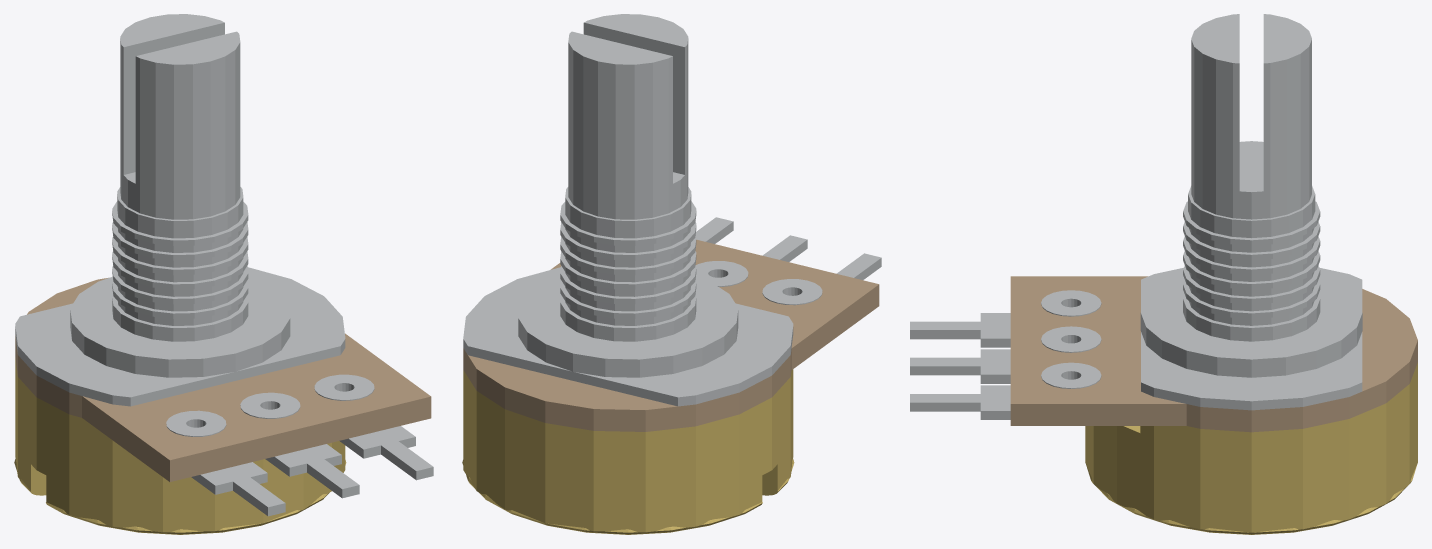
Rendered from potentiometer.glb.
The picture shows the model from 3 angles, left to right: view 1: azimuth 30°, elevation 25°; view 2: azimuth 150°, elevation 25°; view 3: azimuth 270°, elevation 25°; orthographic projection.
Visible parts, largest first — view 1: Mesh_Mesh_head_geo.001_lambert2SG.001; view 2: Mesh_Mesh_head_geo.001_lambert2SG.001; view 3: Mesh_Mesh_head_geo.001_lambert2SG.001.
Part boxes in pixels (x1=…): Mesh_Mesh_head_geo.001_lambert2SG.001: x1=14, y1=14, x2=433, y2=534; Mesh_Mesh_head_geo.001_lambert2SG.001: x1=462, y1=14, x2=881, y2=534; Mesh_Mesh_head_geo.001_lambert2SG.001: x1=910, y1=14, x2=1417, y2=534.
Bounding box in the file's own units: 16.5 × 23.7 × 25.2.
